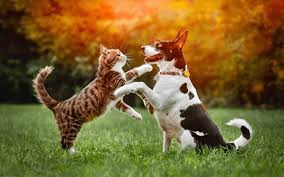cat: (33, 41, 152, 157)
dog: (114, 28, 253, 155)
